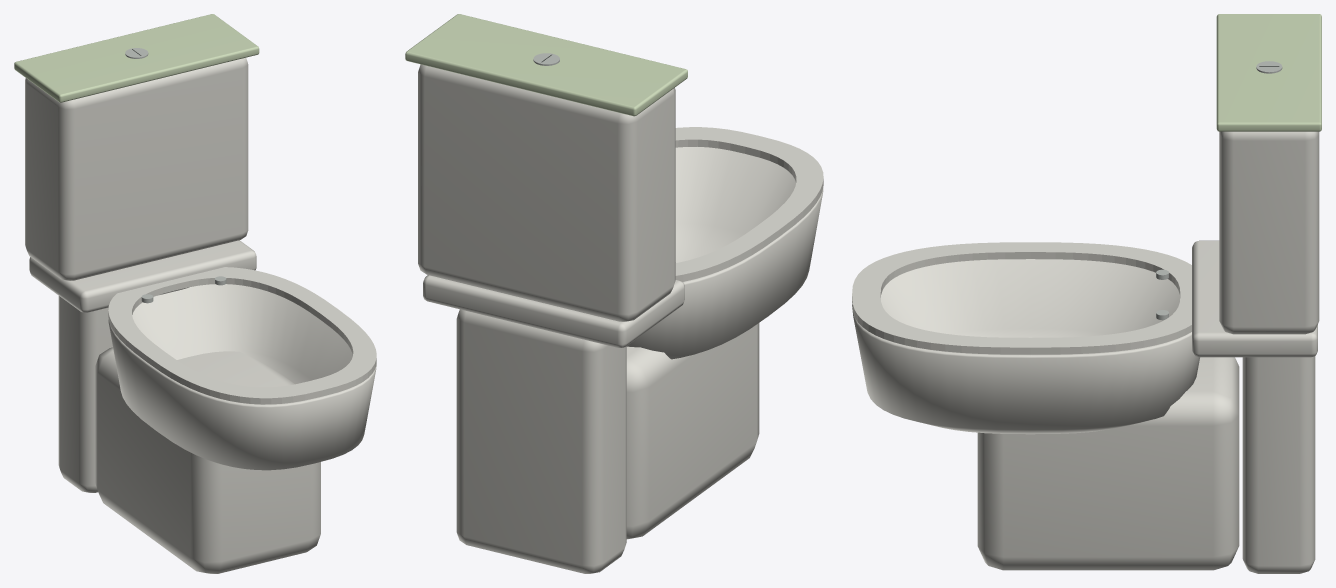
File: two-piece-toilet.glb
The picture shows the model from 3 angles, left to right: view 1: azimuth 30°, elevation 25°; view 2: azimuth 150°, elevation 25°; view 3: azimuth 270°, elevation 25°; orthographic projection. The views are drawn at different scales.
Parts seen in each view (by area): view 1: two-piece-toilet authored assembly; view 2: two-piece-toilet authored assembly; view 3: two-piece-toilet authored assembly.
Boxes of the visible parts, left/top/right/bottom form: two-piece-toilet authored assembly: left=14, top=14, right=376, bottom=573; two-piece-toilet authored assembly: left=405, top=14, right=823, bottom=573; two-piece-toilet authored assembly: left=852, top=14, right=1321, bottom=573.
Bounding box in the file's own units: 0.4 × 0.81 × 0.72.
